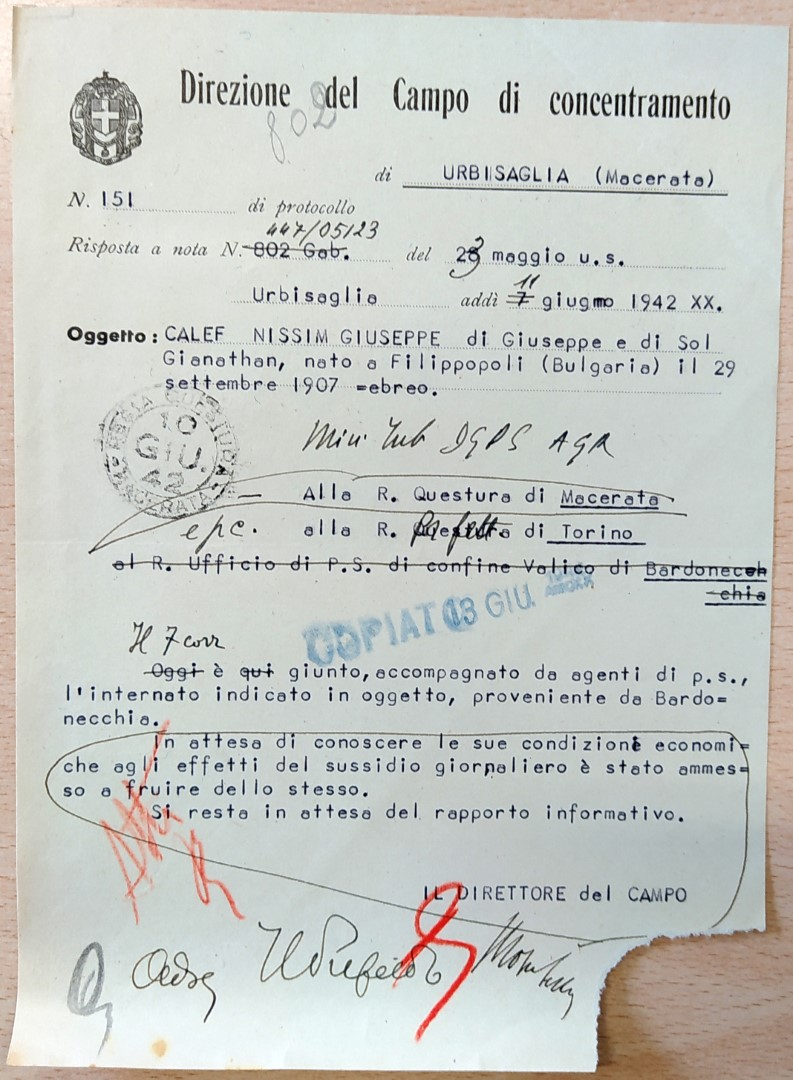stamp: (95, 387, 237, 521)
